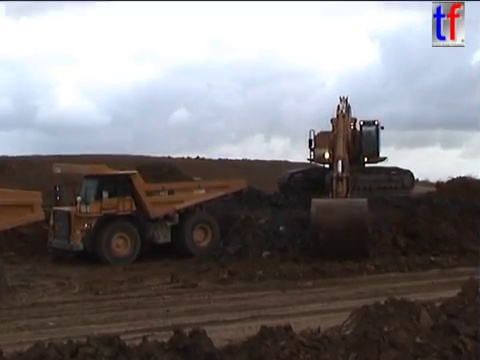excavator: (274, 93, 417, 260)
truck: (46, 160, 248, 267), (1, 183, 45, 286)
